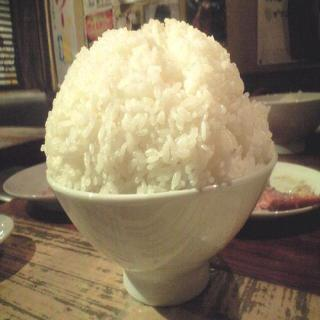Nasi: (40, 17, 276, 195)
